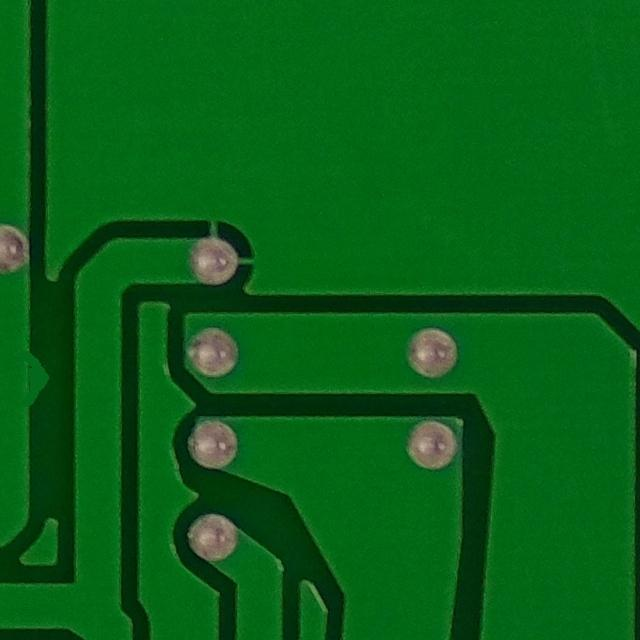spur: (6, 337, 64, 422)
